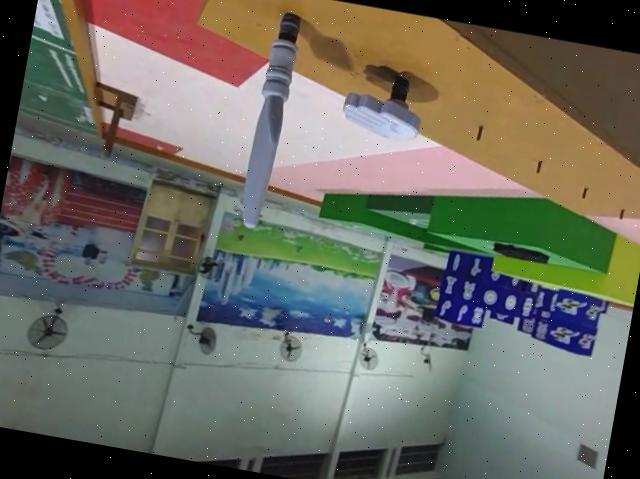Hand: (337, 70, 429, 144)
Sph: (234, 7, 307, 232)
